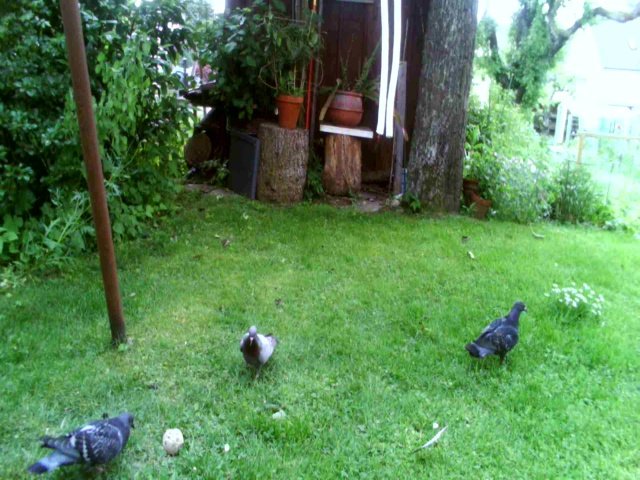Pigeon: (27, 406, 149, 480), (461, 293, 537, 379), (229, 308, 300, 384)
